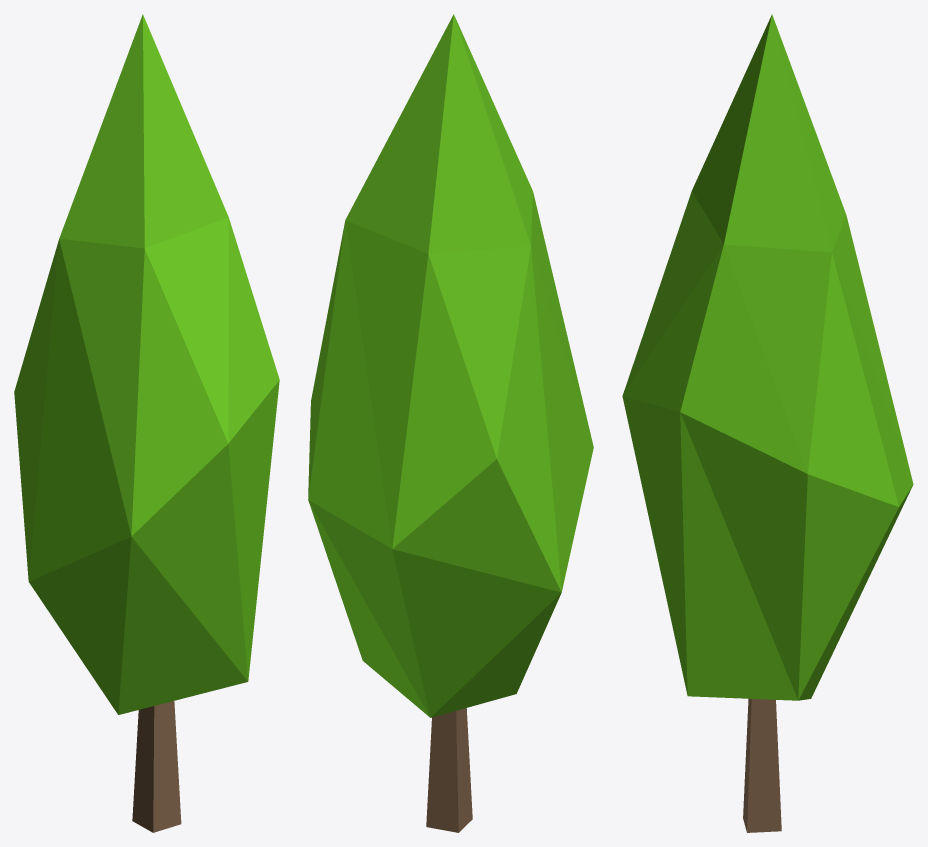
The model's file is Tree_01.fbx.
The picture shows the model from 3 angles, left to right: view 1: azimuth 30°, elevation 25°; view 2: azimuth 150°, elevation 25°; view 3: azimuth 270°, elevation 25°; orthographic projection.
Parts seen in each view (by area): view 1: Tree_01; view 2: Tree_01; view 3: Tree_01.
Boxes of the visible parts, x1,y1,x2,y2 form: Tree_01: (14,14,279,832); Tree_01: (308,14,593,832); Tree_01: (622,14,913,832).
Bounding box in the file's own units: 222 × 732 × 240.
